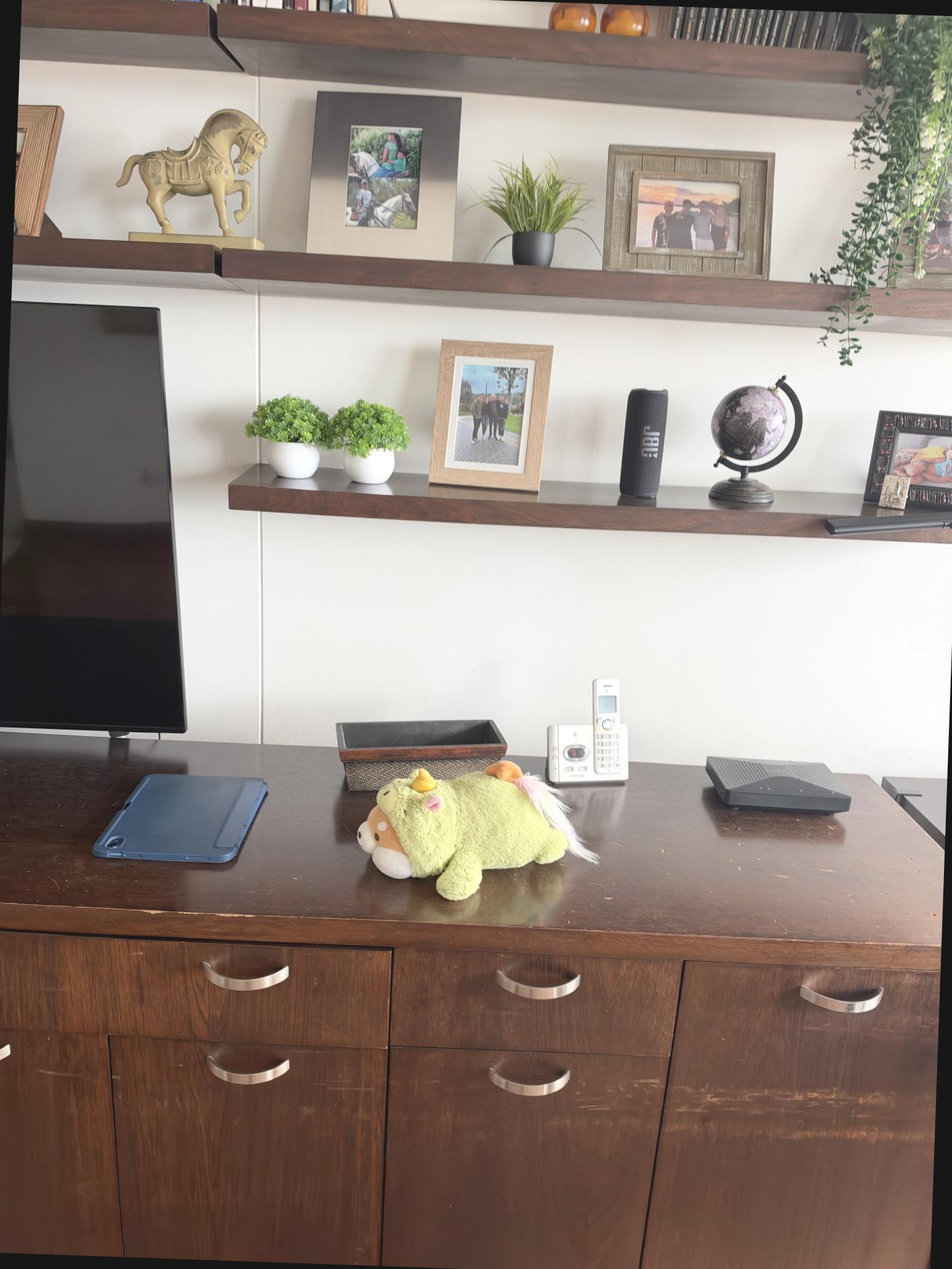peluche_martin: (354, 755, 604, 906)
